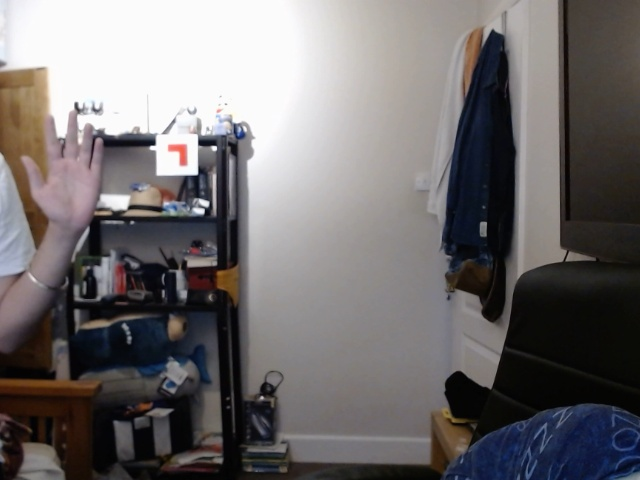Hello: (17, 102, 114, 229)
